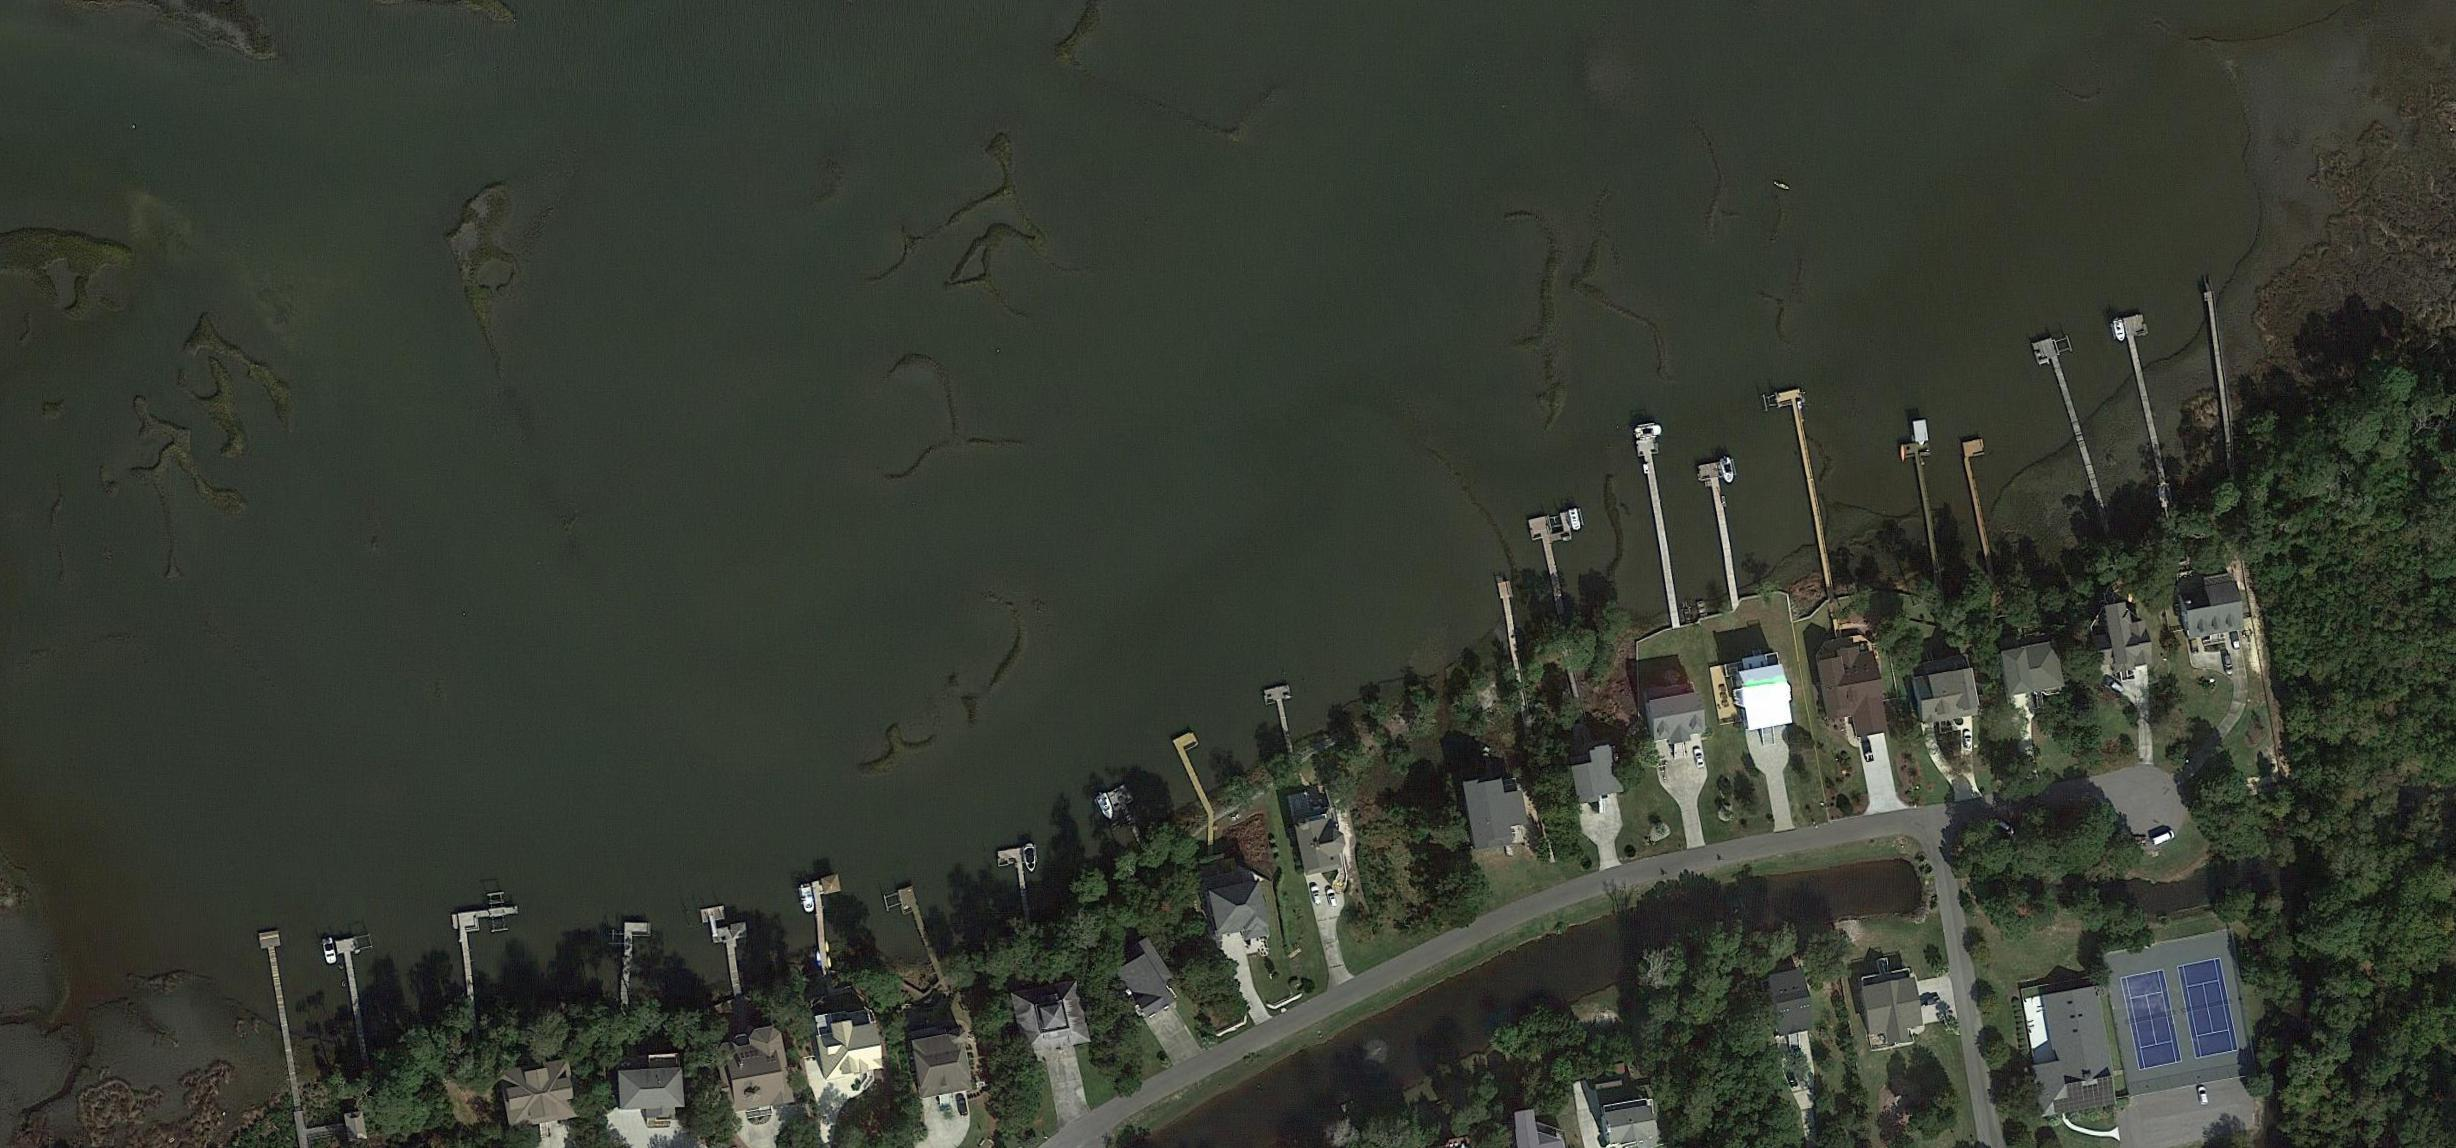harbor: (2032, 337, 2108, 520), (1772, 388, 1836, 576), (1526, 514, 1598, 662), (2122, 313, 2179, 484), (1635, 437, 1685, 619), (457, 905, 536, 1016), (258, 930, 307, 1106), (1897, 420, 1949, 575), (1696, 462, 1743, 598), (1959, 439, 2010, 565), (700, 902, 758, 1002), (2204, 291, 2235, 453), (335, 938, 374, 1060), (894, 886, 944, 980), (804, 874, 851, 968), (1172, 730, 1222, 803), (1104, 785, 1156, 846), (1262, 686, 1302, 756), (620, 922, 652, 1007), (1497, 581, 1526, 673), (996, 849, 1031, 922)
ship: (1093, 791, 1117, 822), (796, 882, 816, 915), (1634, 423, 1665, 442), (321, 935, 338, 966), (1021, 844, 1038, 872), (1720, 457, 1735, 486), (2111, 319, 2127, 345), (1568, 507, 1584, 531)
